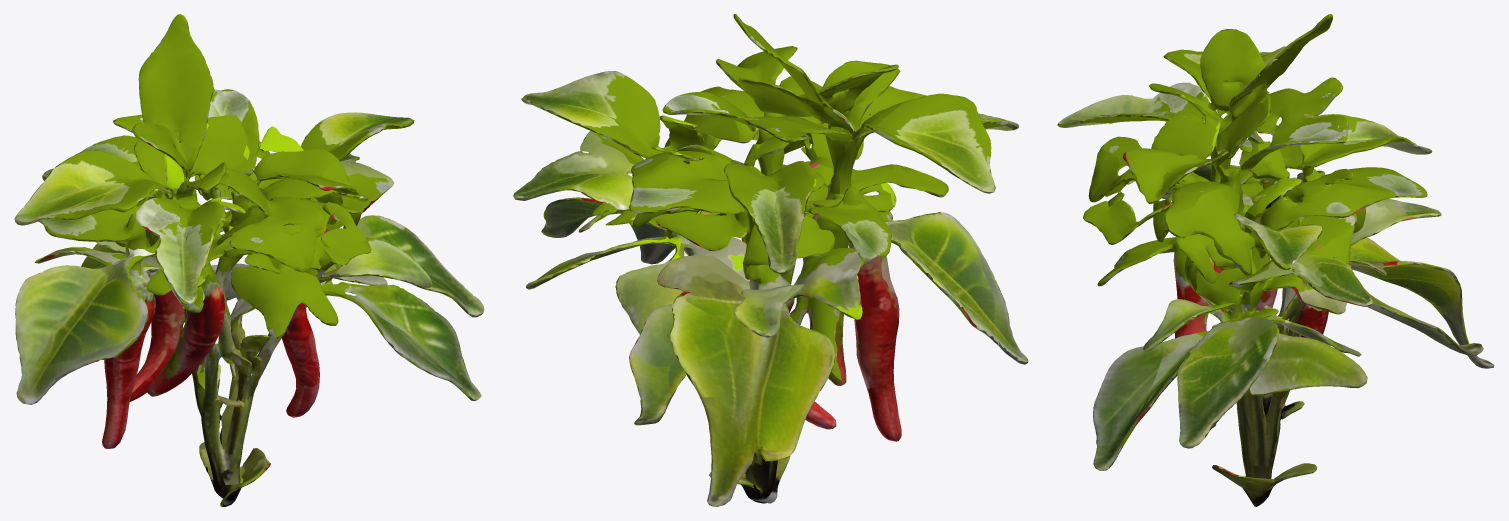
3 renders of one model, left to right at view 1: azimuth 30°, elevation 25°; view 2: azimuth 150°, elevation 25°; view 3: azimuth 270°, elevation 25°, orthographic. The views are drawn at different scales.
Parts seen in each view (by area): view 1: tmp8z9qyrb9.ply; view 2: tmp8z9qyrb9.ply; view 3: tmp8z9qyrb9.ply.
Part boxes in pixels (x1,y1,x2,y2): tmp8z9qyrb9.ply: [14, 14, 484, 506]; tmp8z9qyrb9.ply: [513, 14, 1028, 506]; tmp8z9qyrb9.ply: [1057, 14, 1494, 506].
Size of the model in its own units: 1.99 by 1.99 by 1.62.
Materials: 1 (1 with a texture image).
